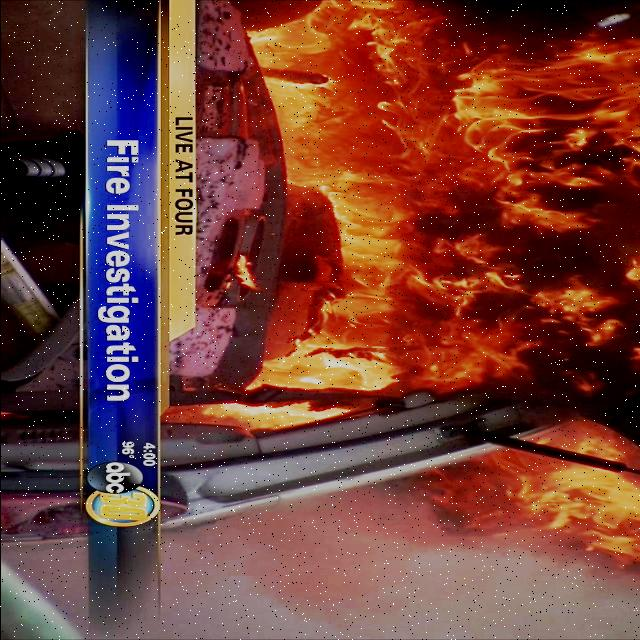api: (211, 1, 640, 591)
